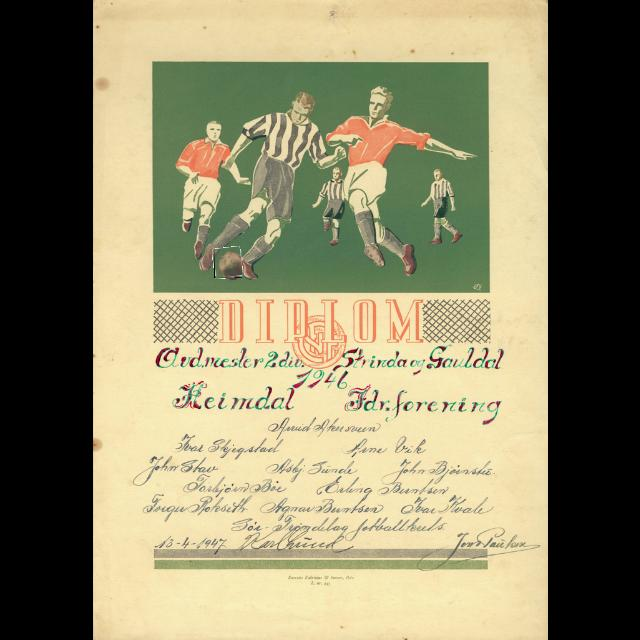Football: (214, 248, 242, 278)
